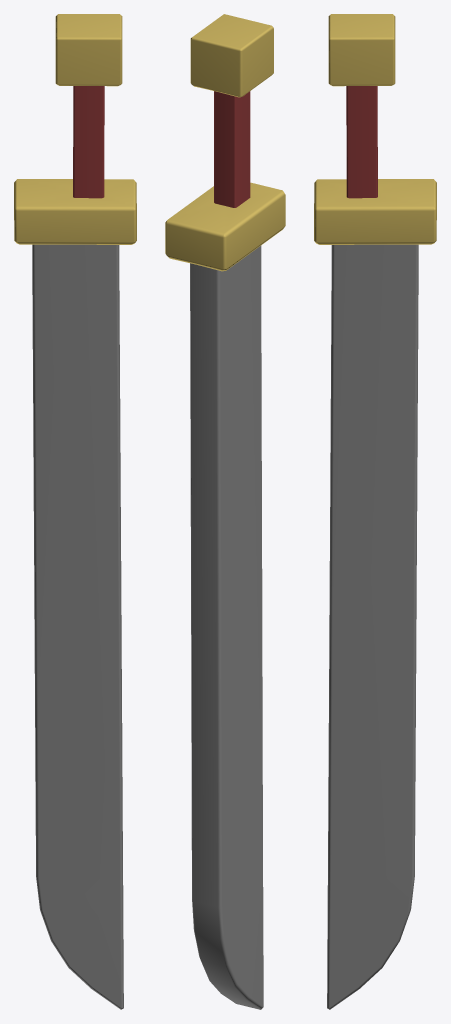
The model's file is Admirals_Sword_Mesh.fbx.
3 views of the same model, side by side, from view 1: azimuth 90°, elevation 25°; view 2: azimuth 150°, elevation 25°; view 3: azimuth 270°, elevation 25° (orthographic).
Visible parts, largest first — view 1: Admirals_Sword2; view 2: Admirals_Sword2; view 3: Admirals_Sword2.
Boxes of the visible parts, box(x1,y1,x2,y2) form: Admirals_Sword2: box(14, 14, 136, 1009); Admirals_Sword2: box(165, 14, 285, 1009); Admirals_Sword2: box(314, 14, 436, 1009).
Size of the model in its own units: 6.36 by 97.47 by 11.09.
